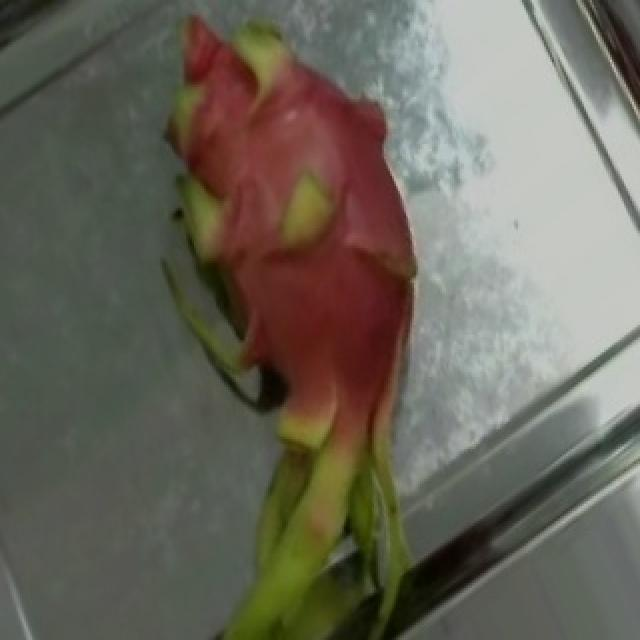fruit: (44, 3, 472, 439), (134, 211, 544, 637)
